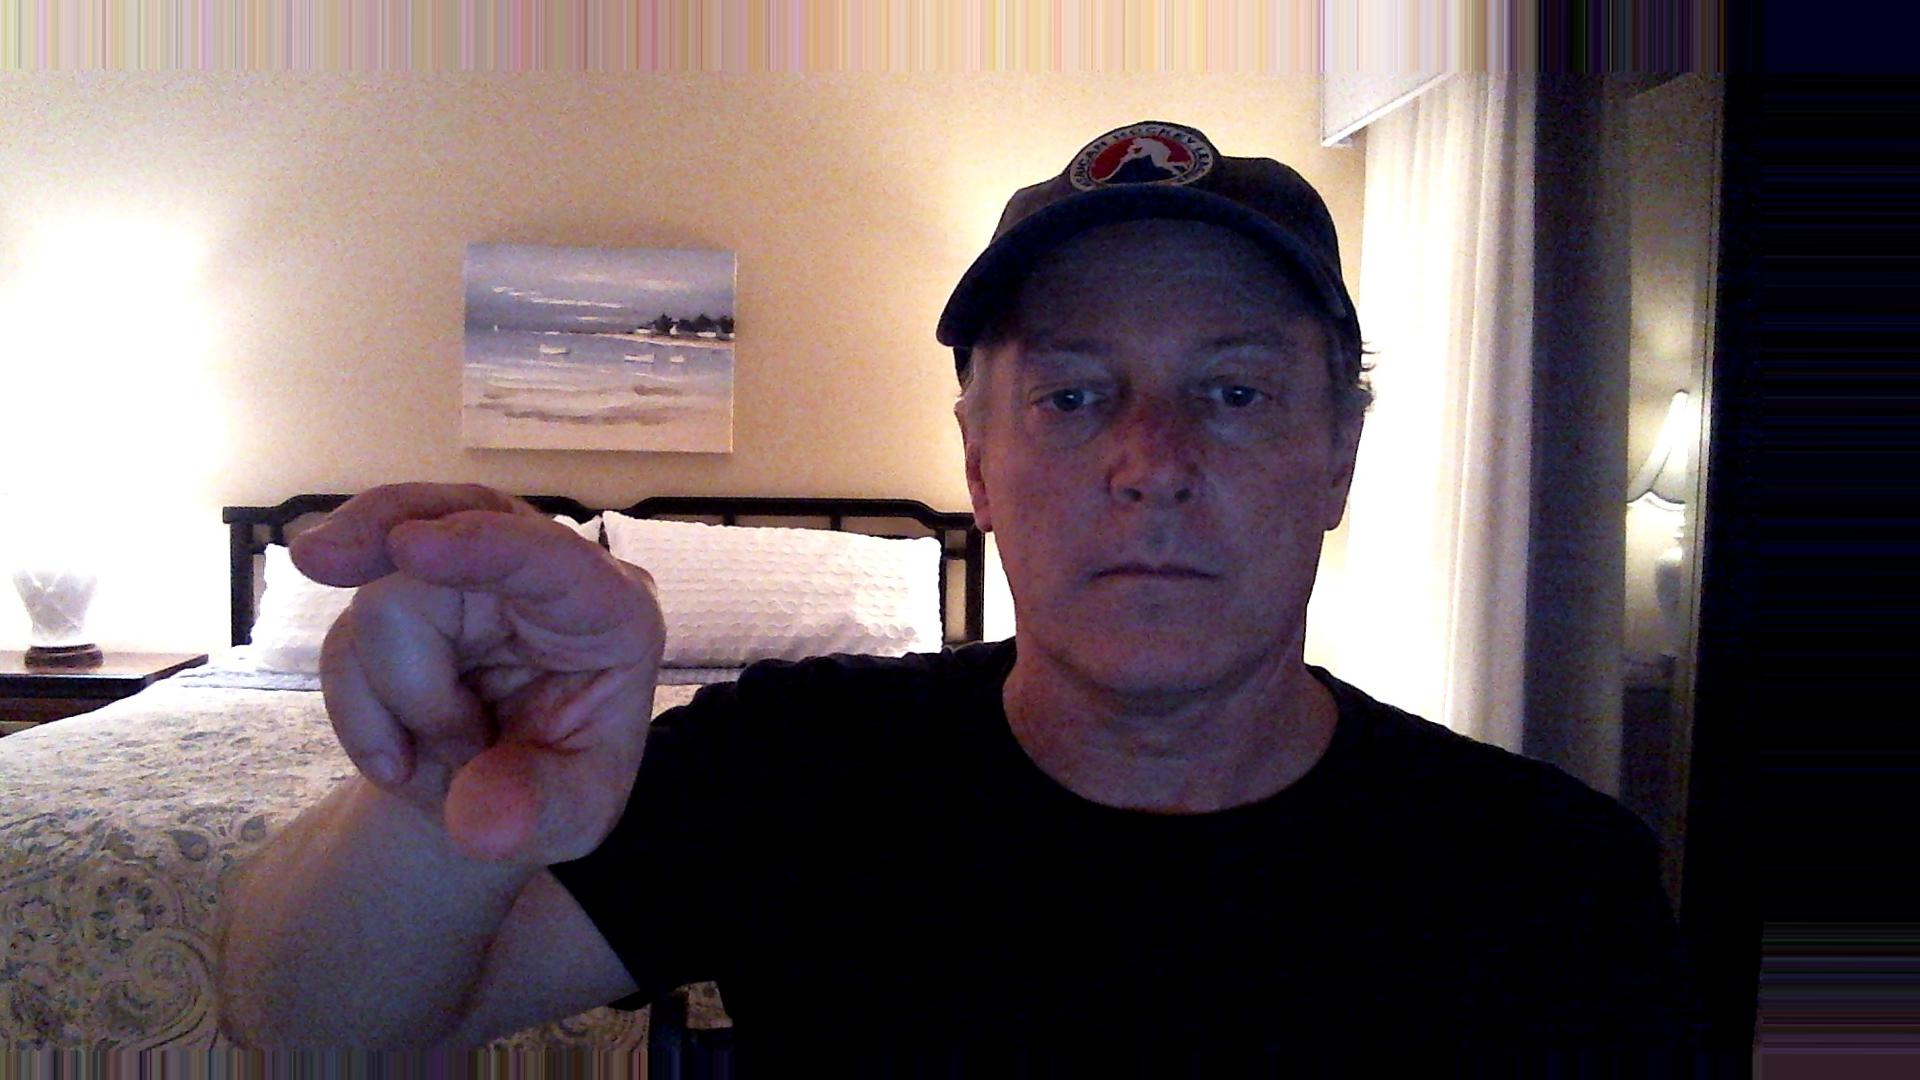No: (261, 450, 741, 930)
